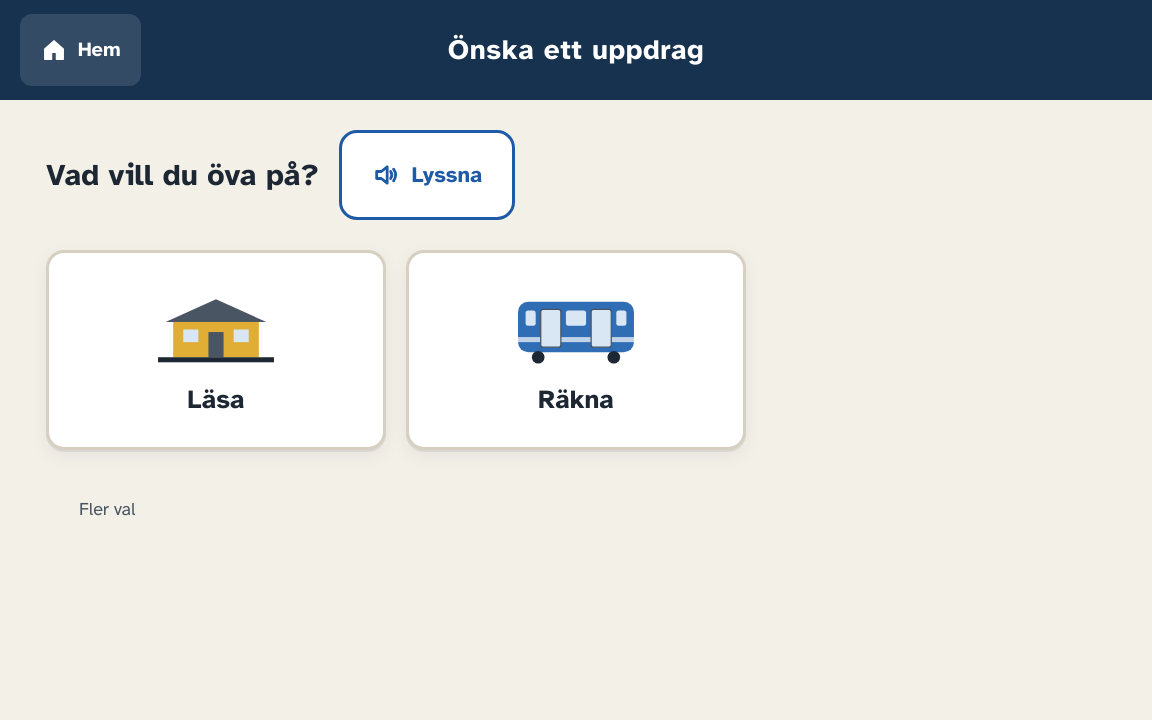
Test: guided request (early) › respects max choices with a "Fler val" page
The width and height of the screenshot is (1152, 720).
Expected: the heading "Vad vill du öva på?" is shown, [46,154,319,196]
Expected: the button "Engelska" is not shown
Click the button "Fler val".
click(107, 510)  # box [46,480,168,540]
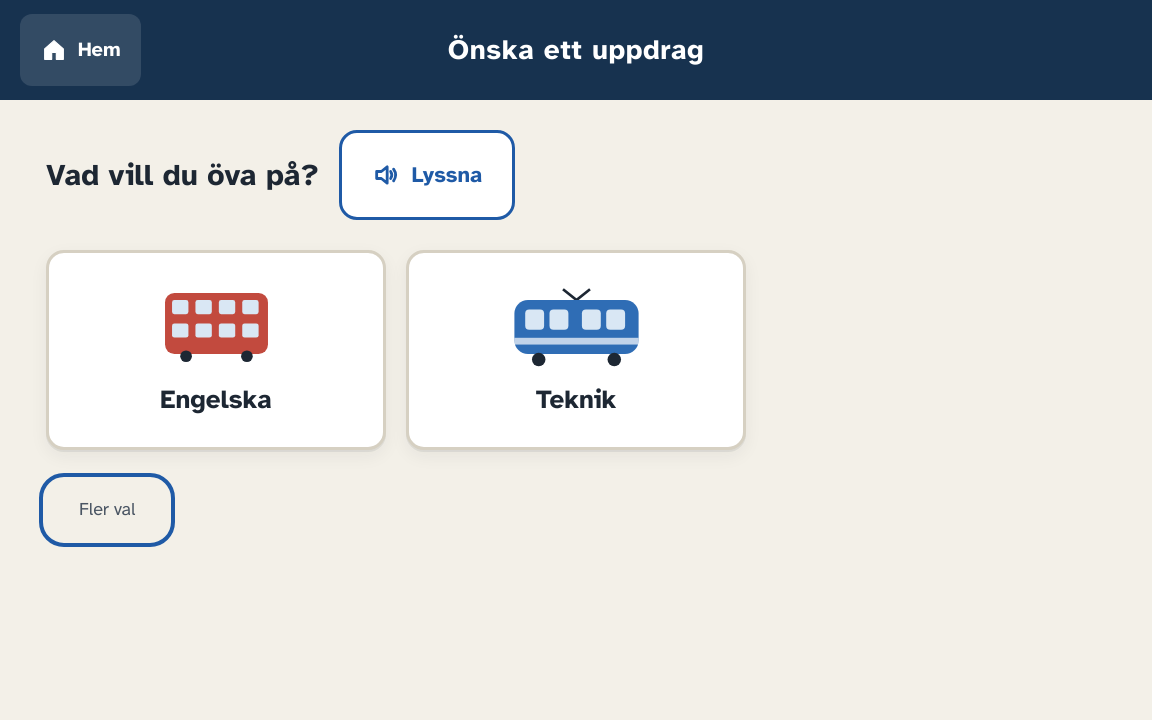
Now the button "Engelska" is shown, box [46,250,386,450]
